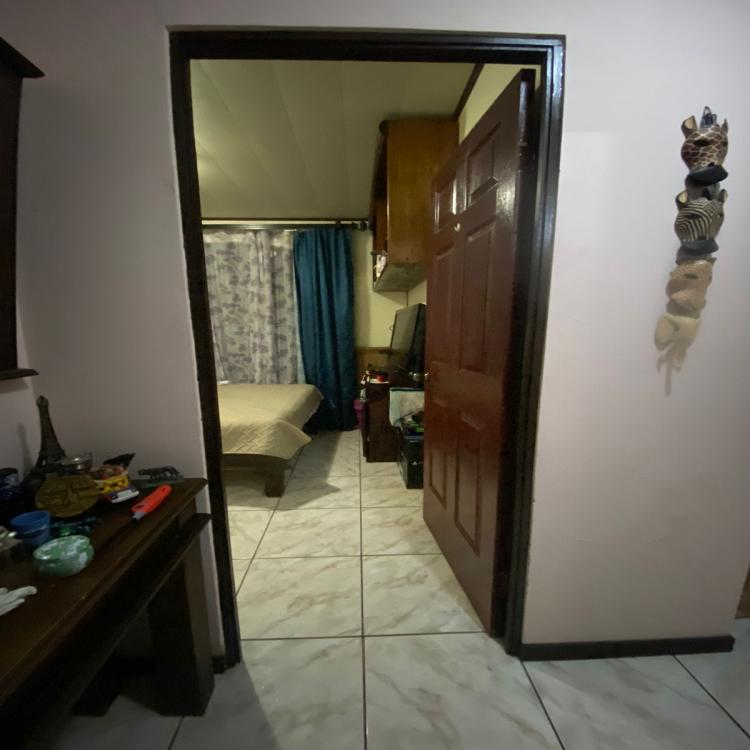OpenDoor: (168, 22, 530, 655)
